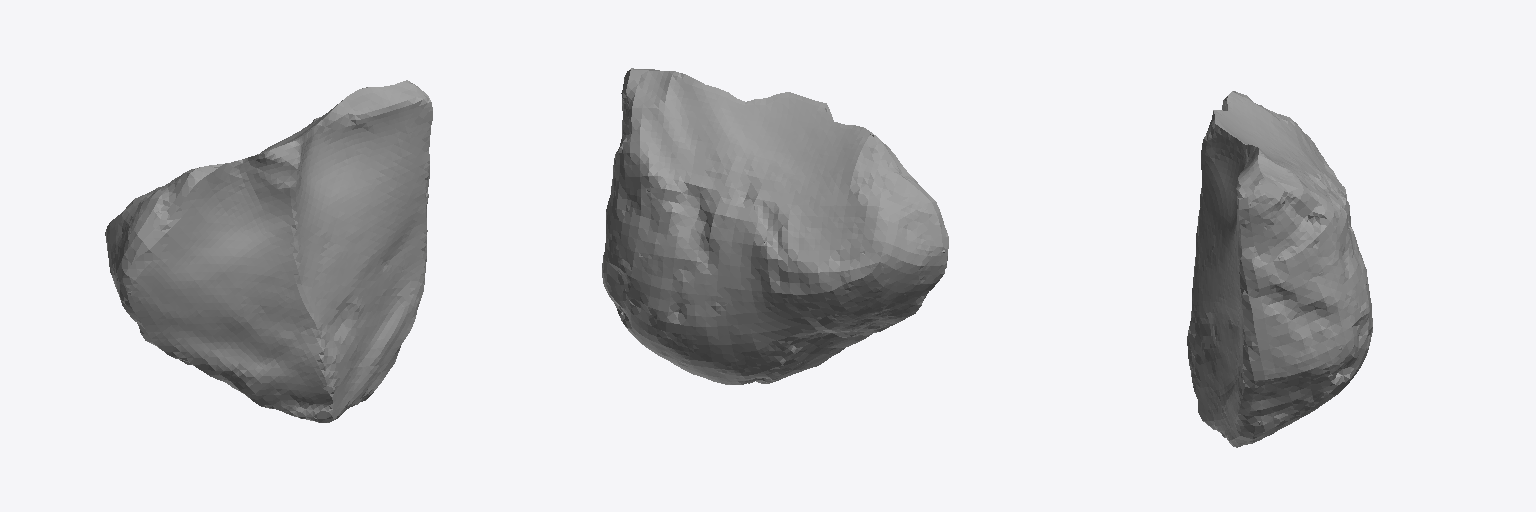
Rendered from nucleus.obj.
3 renders of one model, left to right at view 1: azimuth 30°, elevation 25°; view 2: azimuth 150°, elevation 25°; view 3: azimuth 270°, elevation 25°, orthographic.
Parts seen in each view (by area): view 1: nucleus_low; view 2: nucleus_low; view 3: nucleus_low.
Part boxes in pixels (bbox=[...]): nucleus_low: bbox=[105, 80, 432, 422]; nucleus_low: bbox=[602, 68, 948, 384]; nucleus_low: bbox=[1187, 91, 1372, 447].
Bounding box in the file's own units: 1.21 × 1.1 × 0.6161.